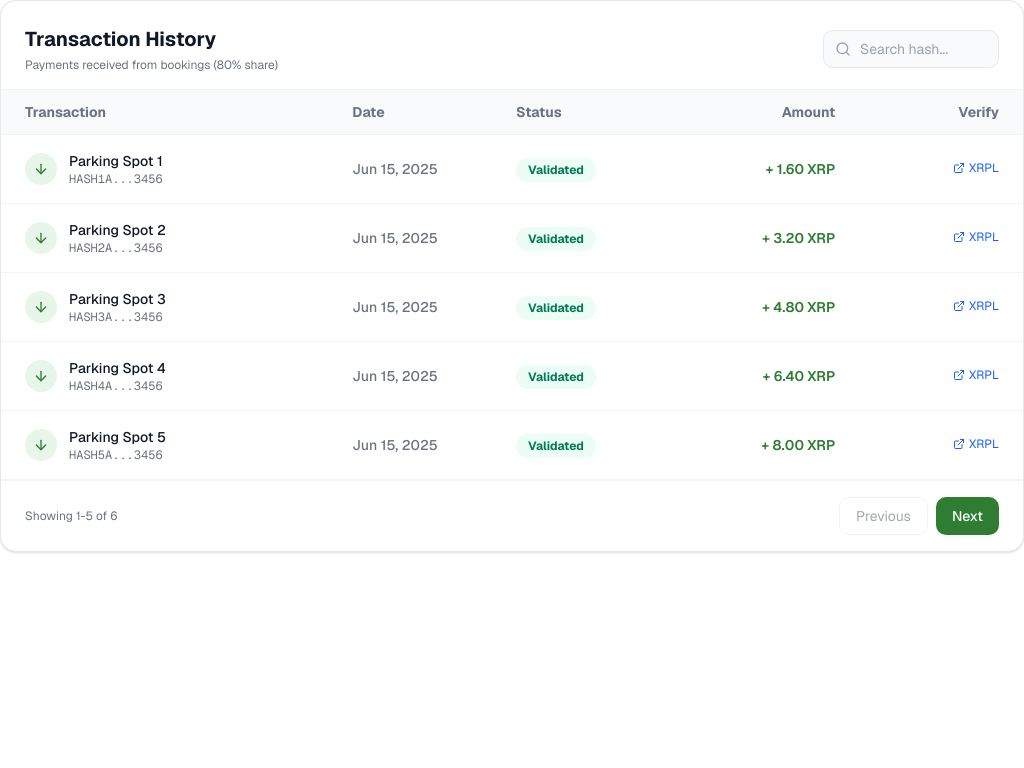
TransactionHistoryCard Component › Pagination › Next button navigates to page 2
Check: the text "Parking Spot 1" is shown, box x1=69 y1=151 x2=163 y2=171
# Click Next
Click the button "Next" at (967, 516), box x1=936 y1=497 x2=999 y2=535
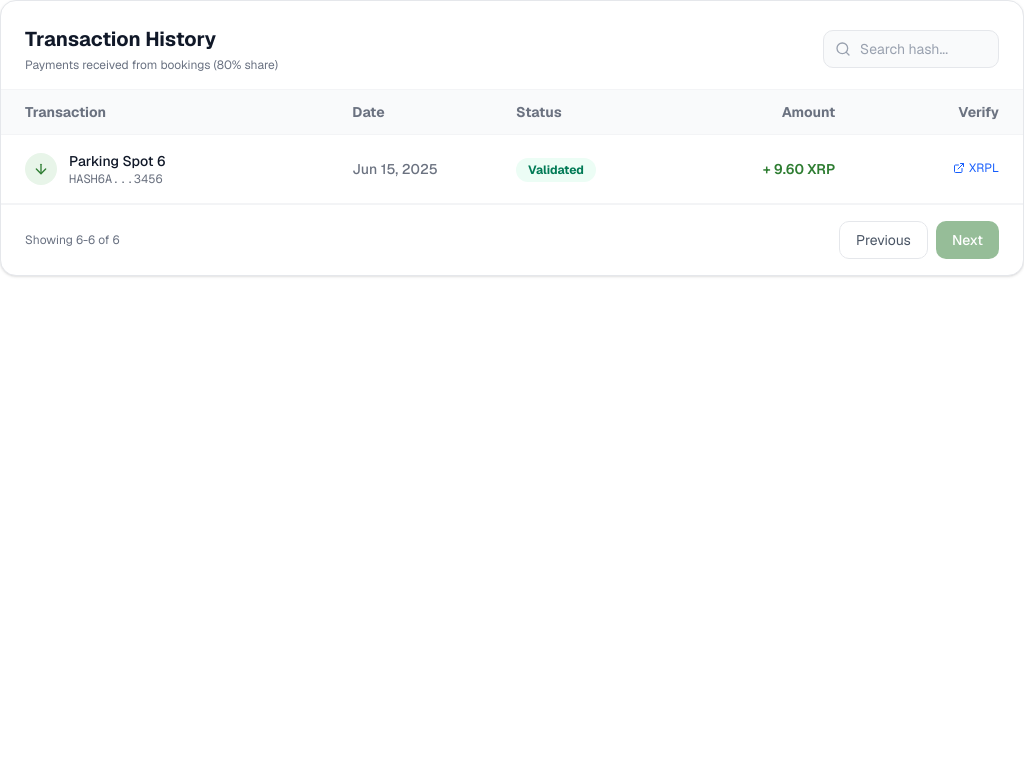
Check: the text "Parking Spot 6" is shown, box x1=69 y1=151 x2=165 y2=171
Check: the text "Parking Spot 1" is gone
